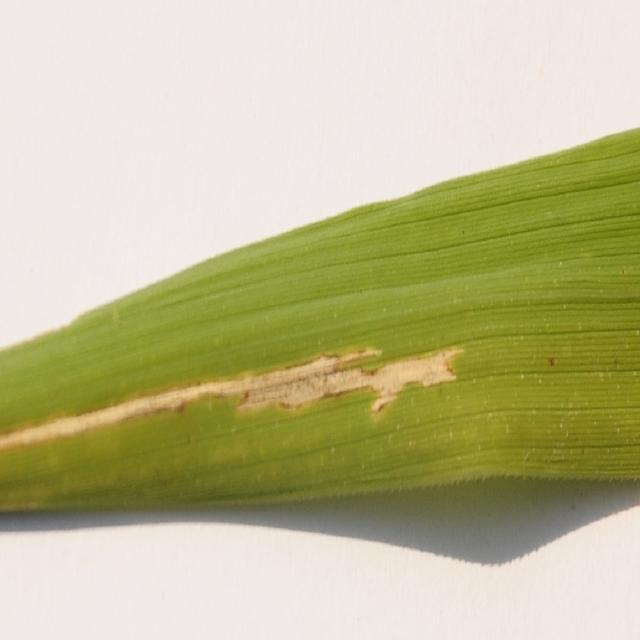Unhealthy: (0, 347, 462, 449)
